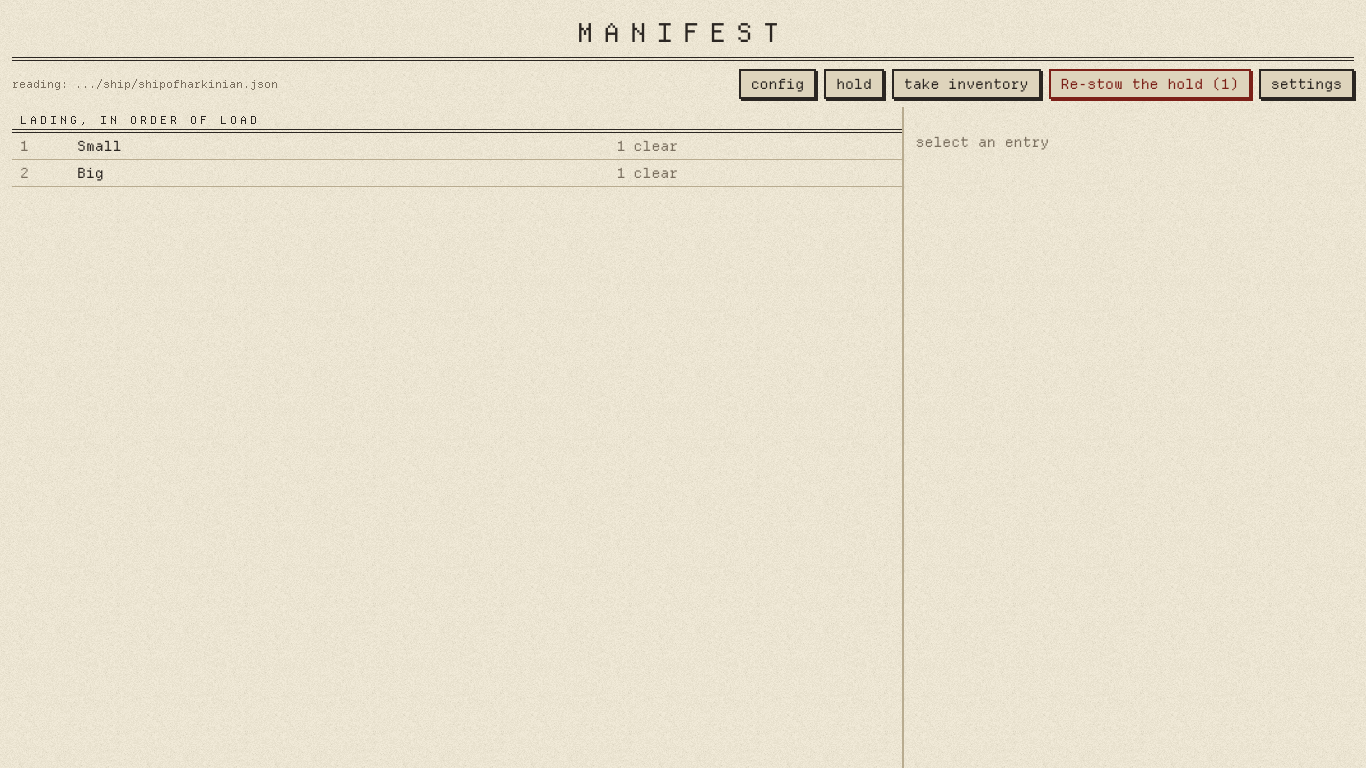
Test: App › closes the sort modal and shows the error page when applying fails
Click the button "Re-stow the hold (1)" at (1150, 84), box [1048,69,1251,99]
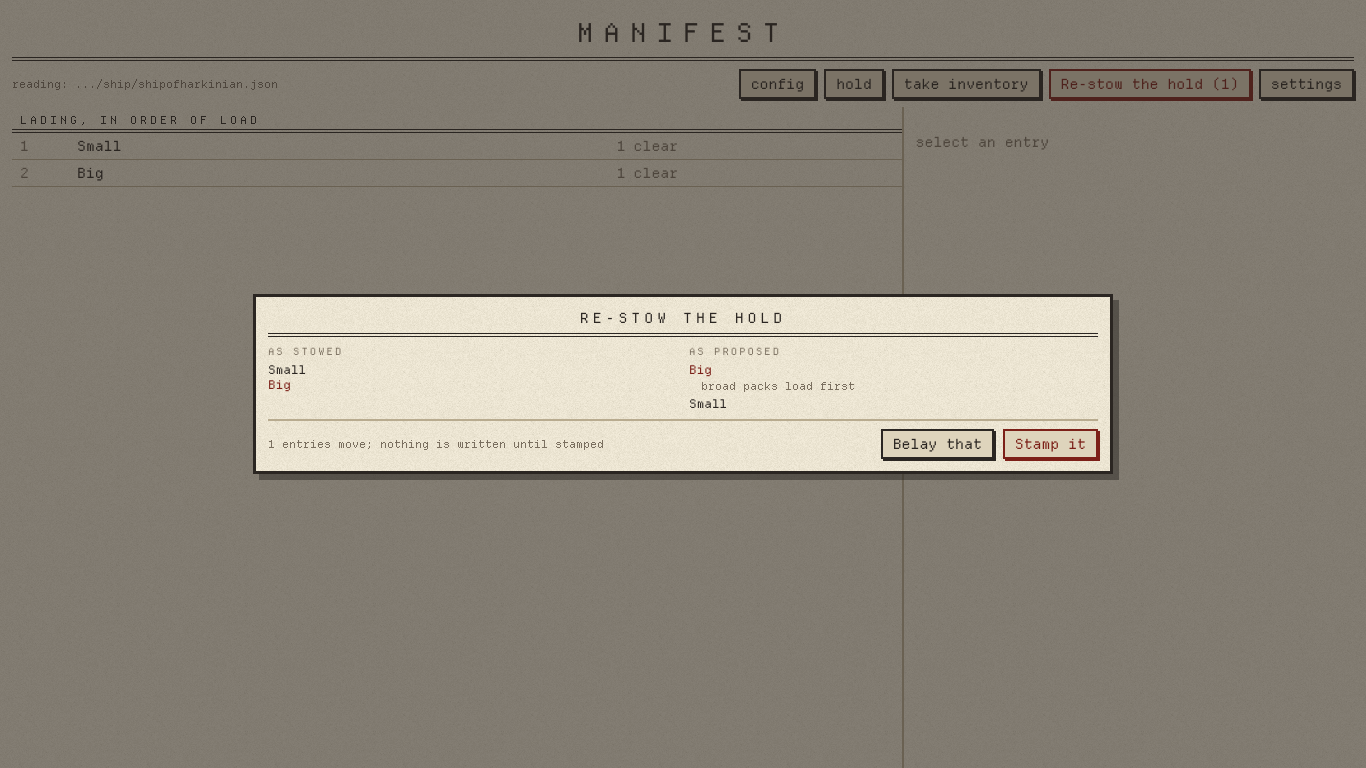
Now the text "RE-STOW THE HOLD" is shown, box [580,309,786,327]
Click the button "Stamp it" at (1050, 444), box [1003,429,1098,459]
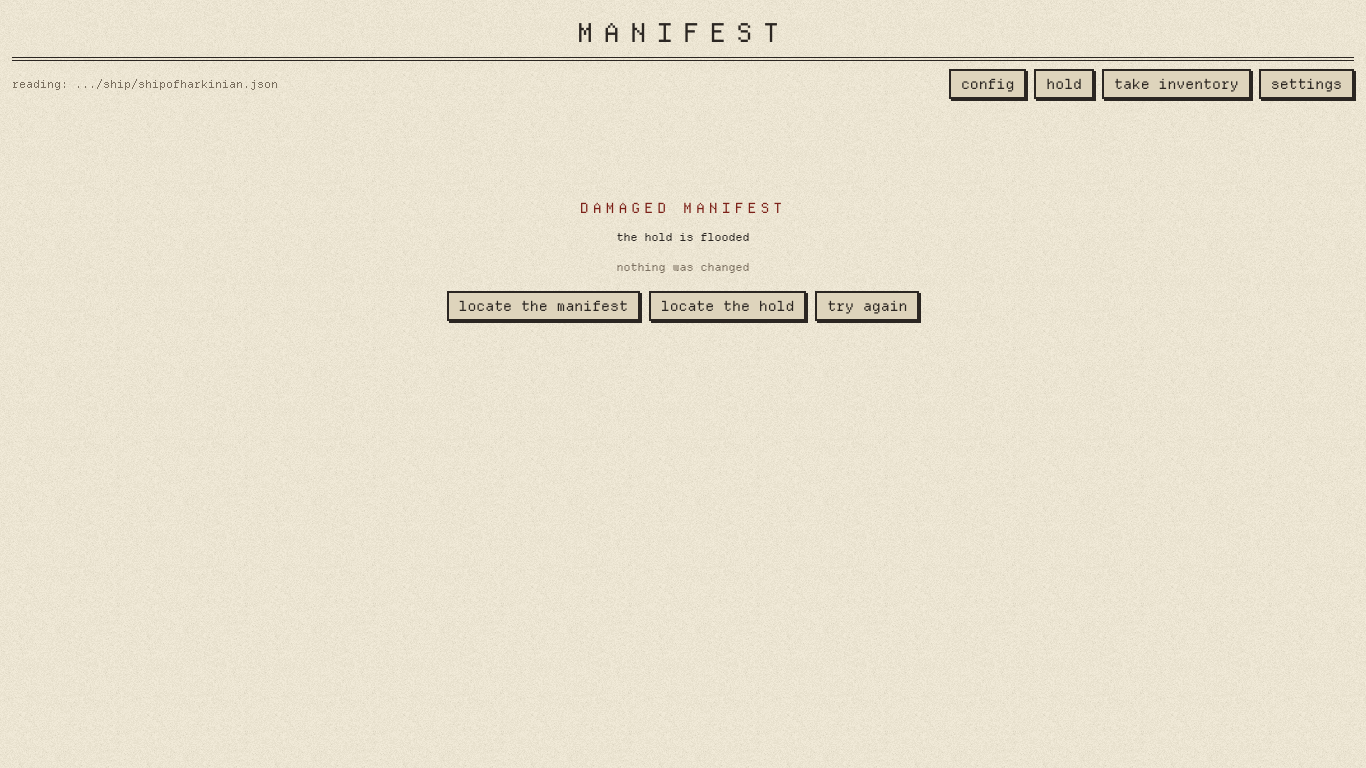
Now the text "DAMAGED MANIFEST" is shown, box [580,199,786,217]
Now the text "the hold is flooded" is shown, box [616,230,750,244]
Now the button "Re-stow the hold" is gone
